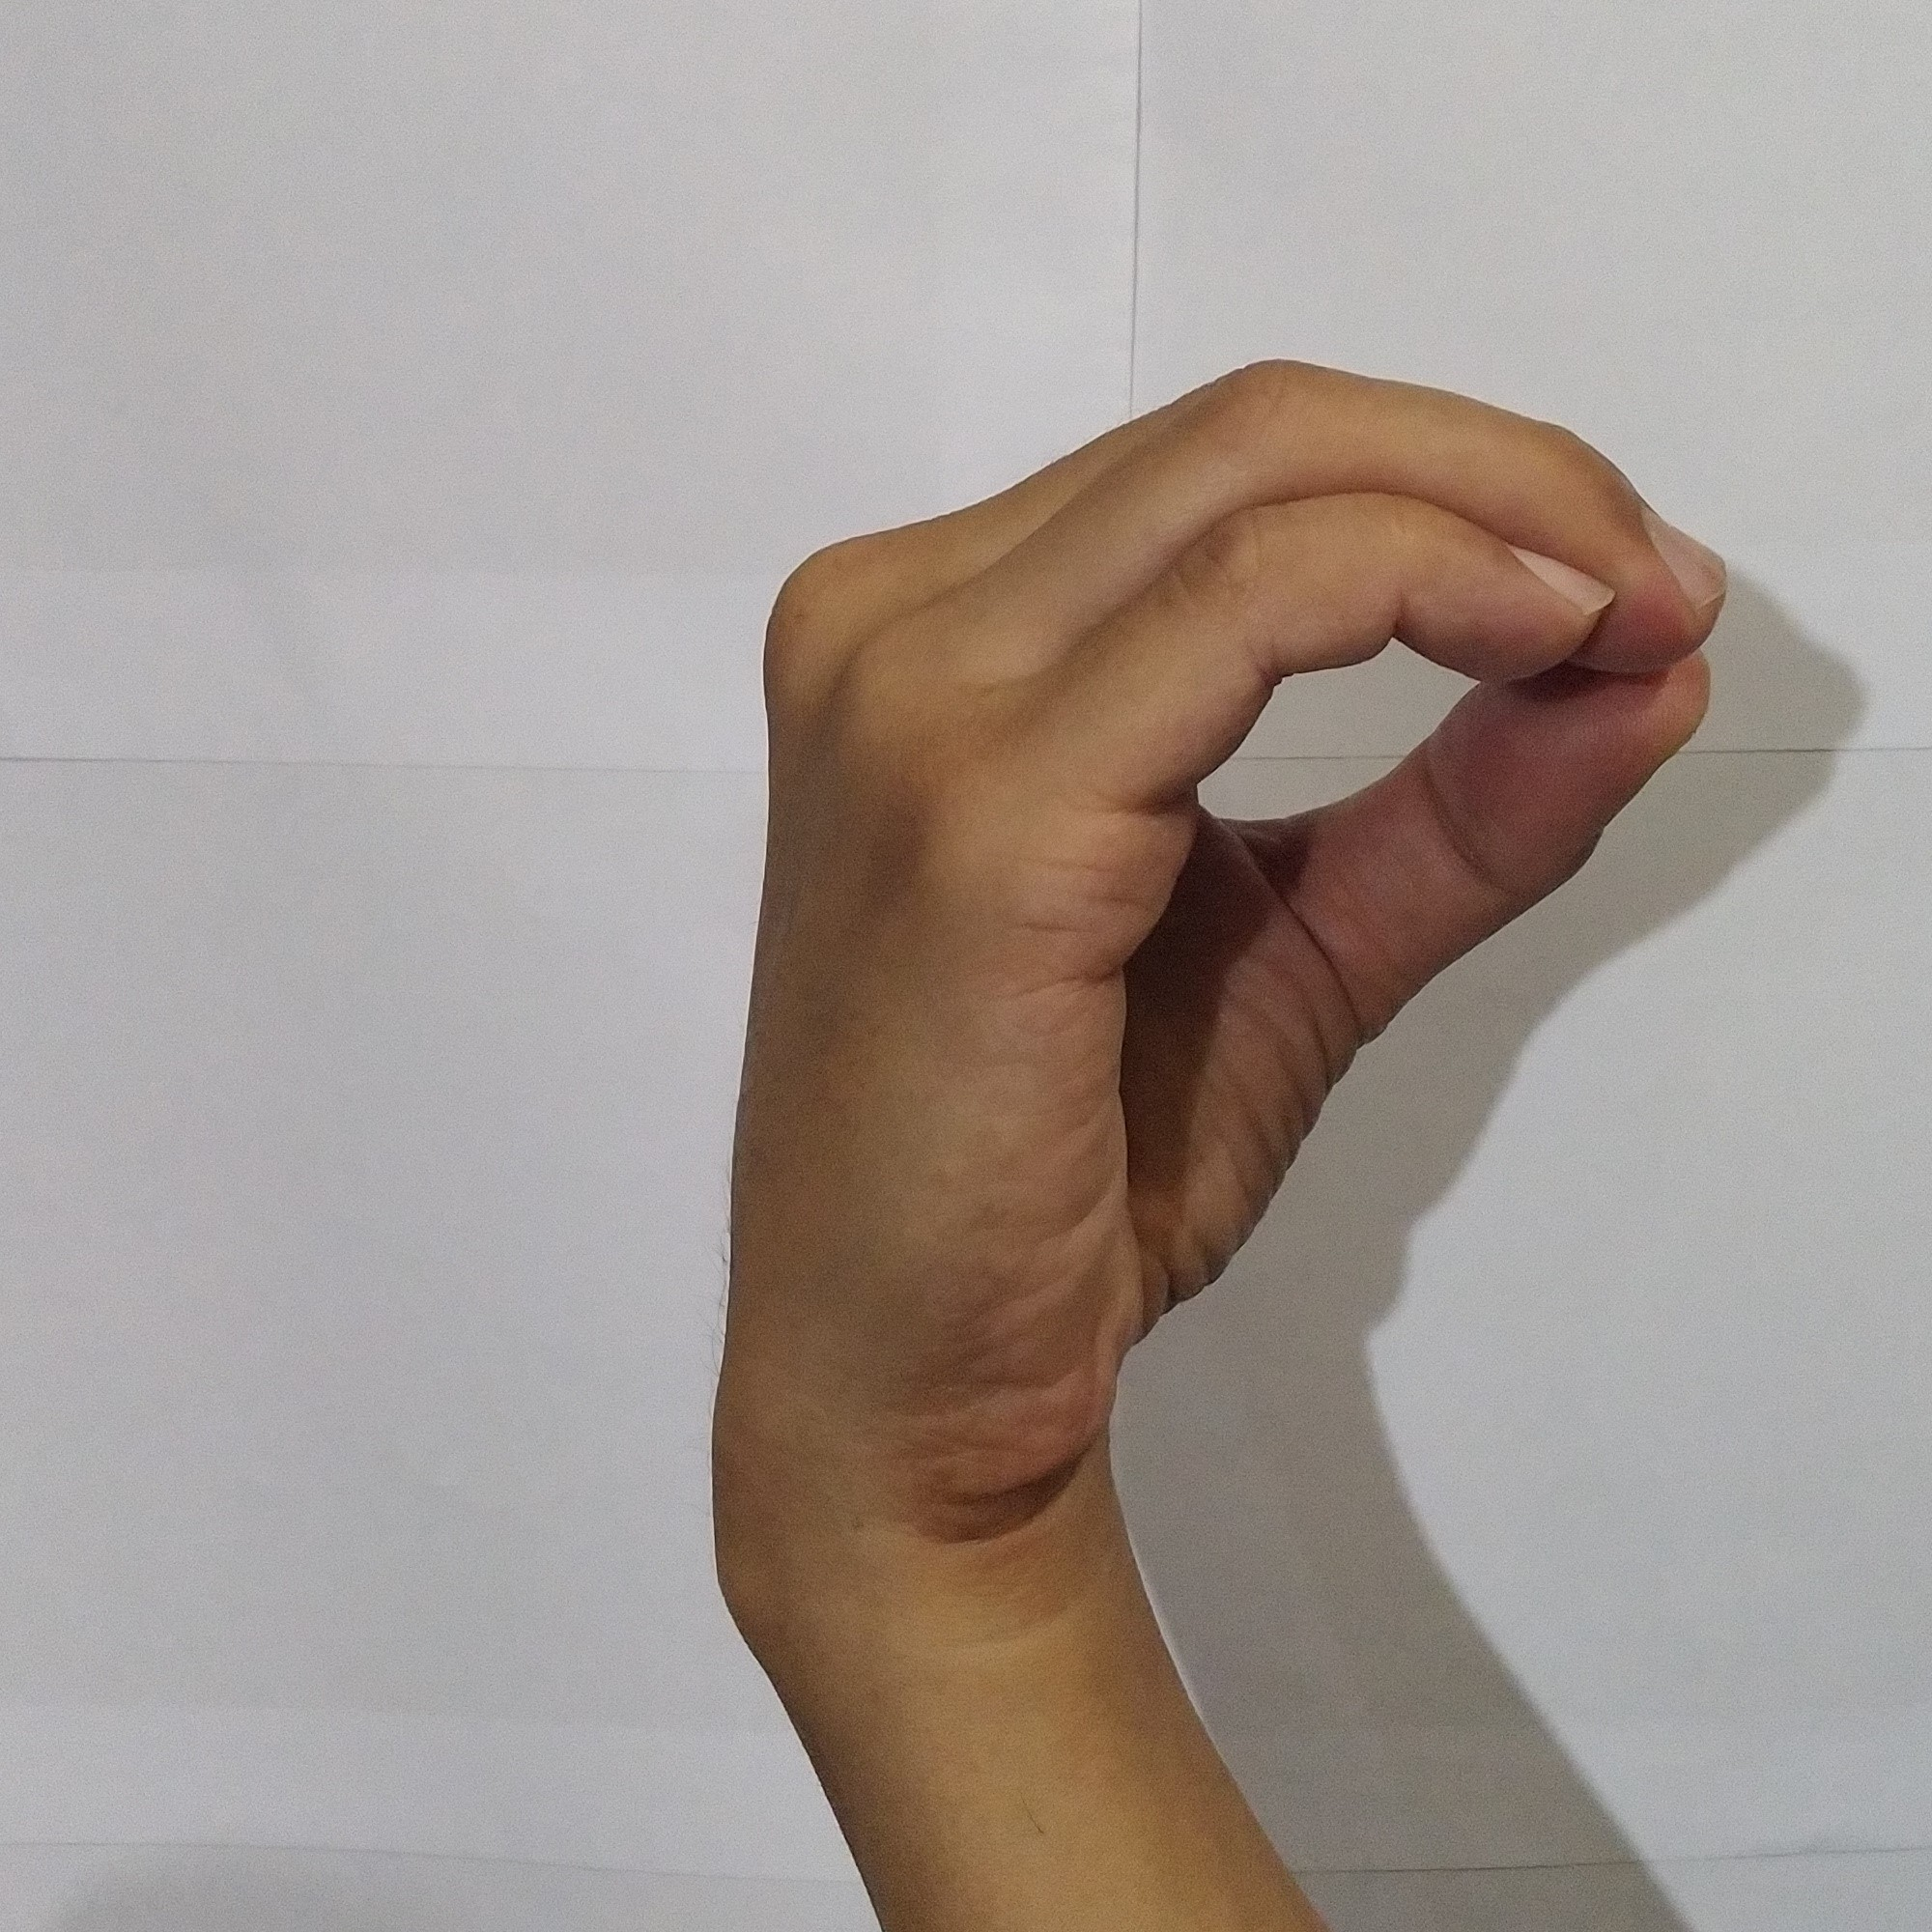O: (706, 327, 1750, 1444)
